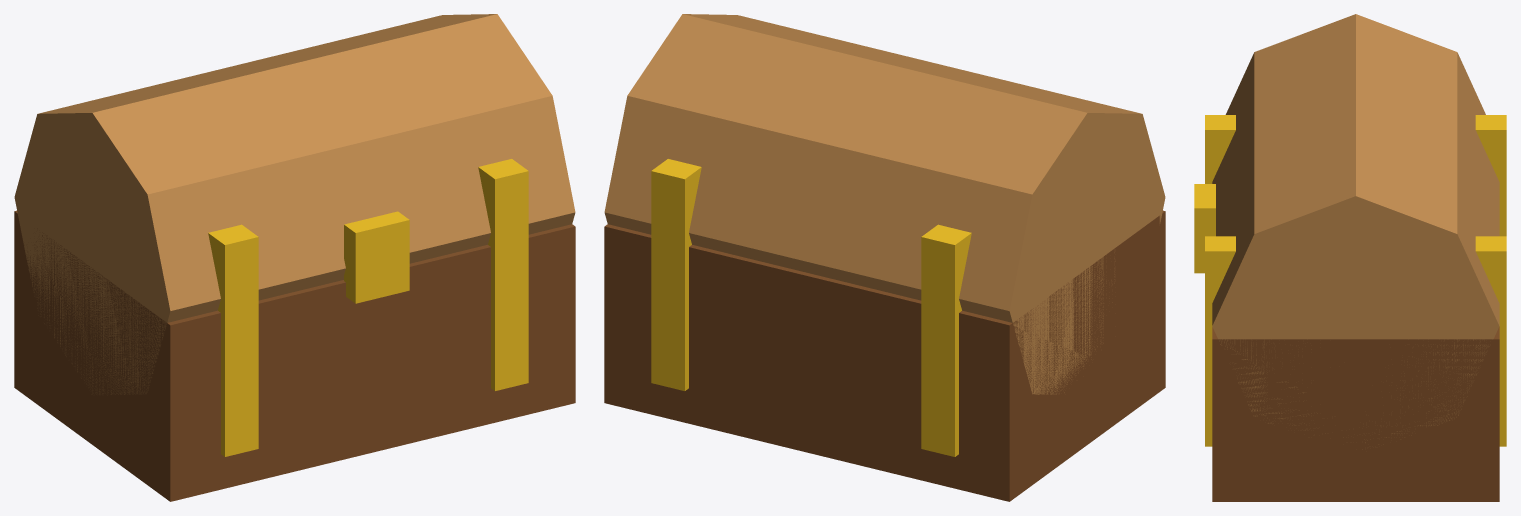
The model's file is treasure_chest.glb.
3 views of the same model, side by side, from view 1: azimuth 30°, elevation 25°; view 2: azimuth 150°, elevation 25°; view 3: azimuth 270°, elevation 25° (orthographic). The views are drawn at different scales.
Visible parts, largest first — view 1: treasure_chest; view 2: treasure_chest; view 3: treasure_chest.
Boxes of the visible parts, x1,y1,x2,y2 form: treasure_chest: (14,14,575,501); treasure_chest: (604,14,1165,501); treasure_chest: (1194,14,1506,501).
Bounding box in the file's own units: 0.6 × 0.47 × 0.435.
